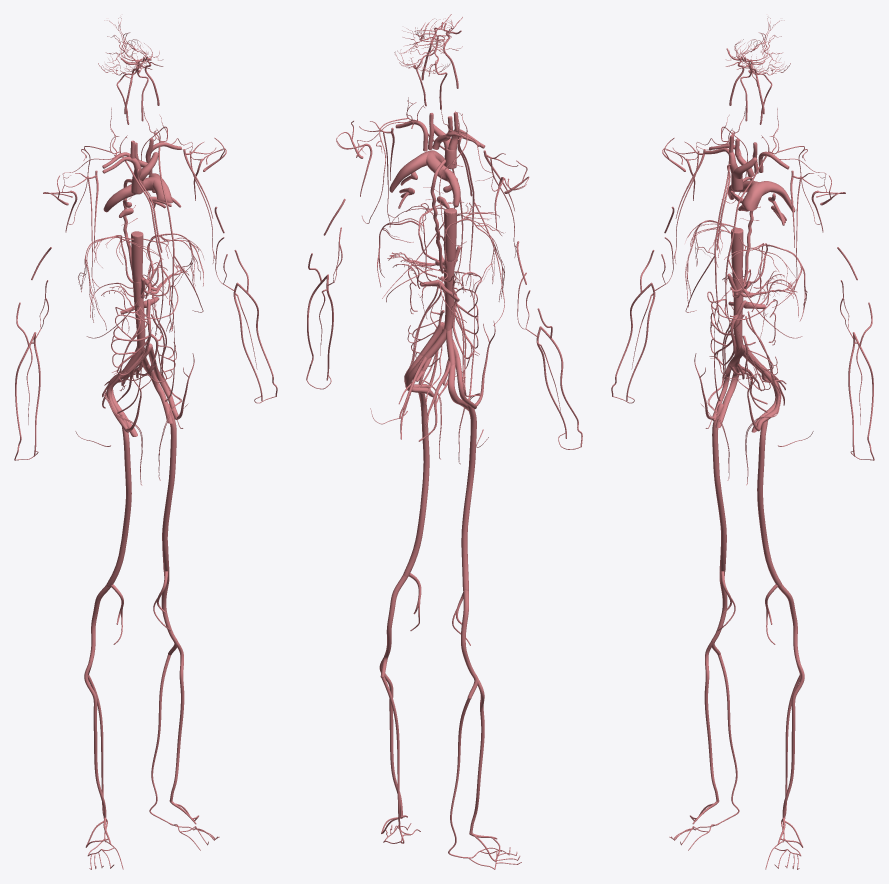
File: male-classified-cardiovascular.glb
3 renders of one model, left to right at view 1: azimuth 30°, elevation 25°; view 2: azimuth 150°, elevation 25°; view 3: azimuth 330°, elevation 25°, orthographic. The views are drawn at different scales.
Visible parts, largest first — view 1: FMA10951, FMA70249, FMA70250, FMA43896, FMA43897, FMA14746, FMA43899; view 2: FMA70249, FMA70250, FMA10951, FMA43896, FMA50872, FMA77380, FMA77381, FMA43897, FMA14746; view 3: FMA70250, FMA10951, FMA70249, FMA43897, FMA43896, FMA43898.
Part boxes in pixels (<box>): FMA10951: <box>131,231,145,351</box>; FMA70249: <box>106,414,131,587</box>; FMA70250: <box>162,403,176,573</box>; FMA43896: <box>84,663,106,817</box>; FMA43897: <box>170,642,184,801</box>; FMA14746: <box>78,235,163,330</box>; FMA43899: <box>149,654,170,822</box>; FMA70249: <box>461,400,476,590</box>; FMA70250: <box>403,393,429,576</box>; FMA10951: <box>444,208,456,331</box>; FMA43896: <box>469,678,484,833</box>; FMA50872: <box>426,152,460,207</box>; FMA77380: <box>461,590,477,699</box>; FMA77381: <box>380,574,407,677</box>; FMA43897: <box>379,657,402,816</box>; FMA14746: <box>442,202,504,301</box>; FMA70250: <box>757,415,781,587</box>; FMA10951: <box>731,227,743,349</box>; FMA70249: <box>712,403,726,572</box>; FMA43897: <box>782,663,804,817</box>; FMA43896: <box>704,642,718,801</box>; FMA43898: <box>718,654,739,822</box>.
Bounding box in the file's own units: 0.559 × 1.65 × 0.2133.
